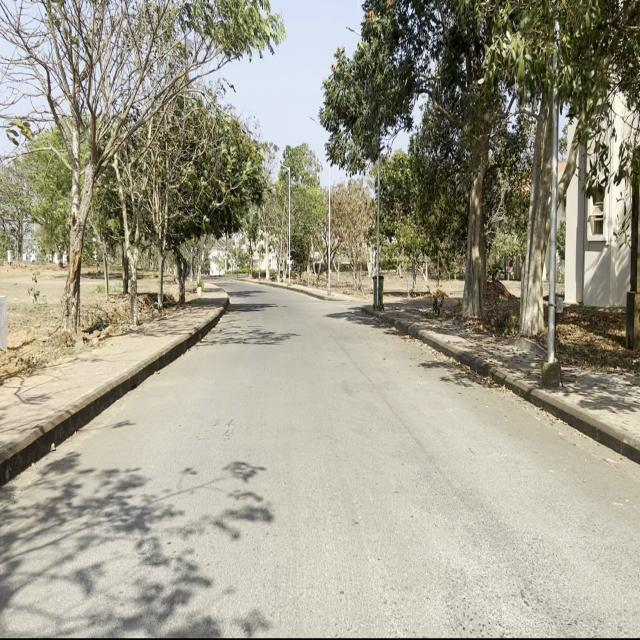Road: (5, 282, 631, 630)
